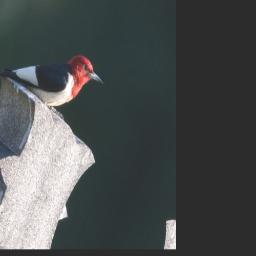Woodpecker: (0, 0, 110, 151)
